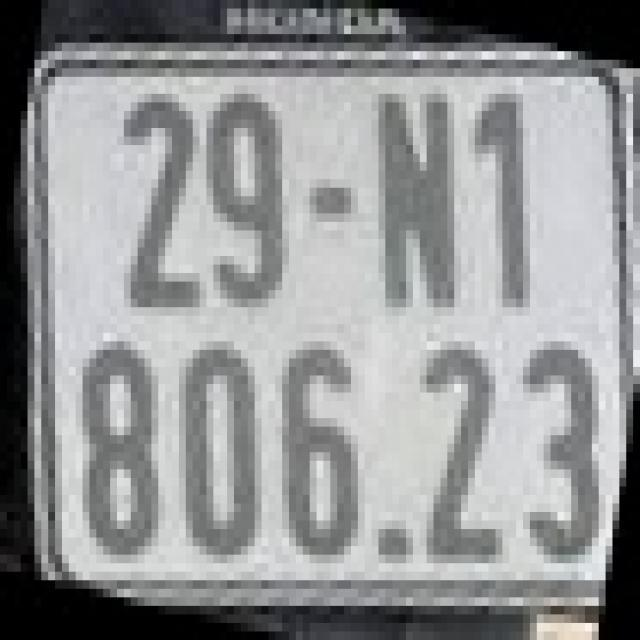0: (178, 341, 262, 555)
1: (475, 94, 537, 308)
2: (110, 94, 207, 316), (420, 342, 502, 564)
3: (523, 342, 606, 564)
6: (275, 341, 365, 555)
8: (76, 332, 165, 554)
9: (206, 94, 289, 308)
N: (372, 85, 462, 308)
